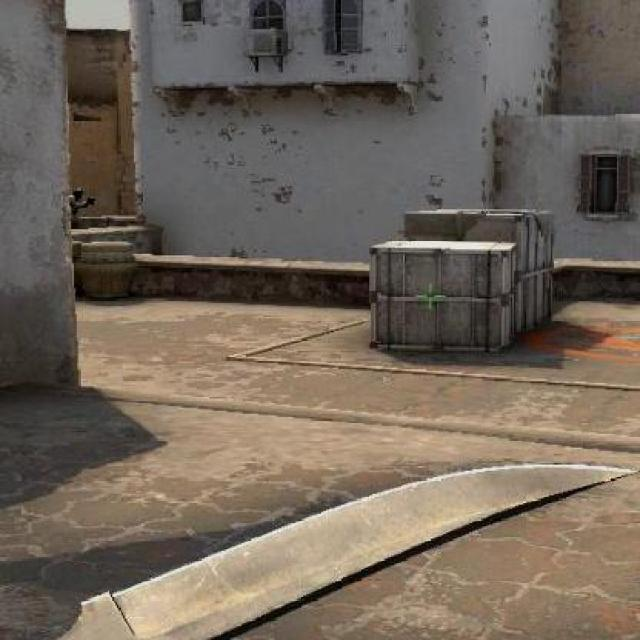CT-Body: (72, 188, 85, 198)
CT-Head: (70, 188, 92, 218)
